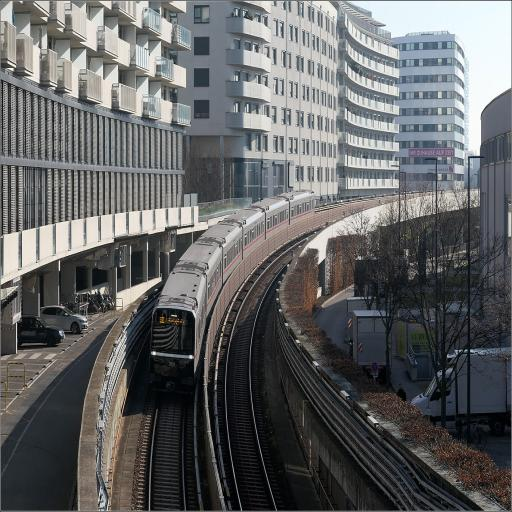X-Wagen: (148, 190, 314, 378)
